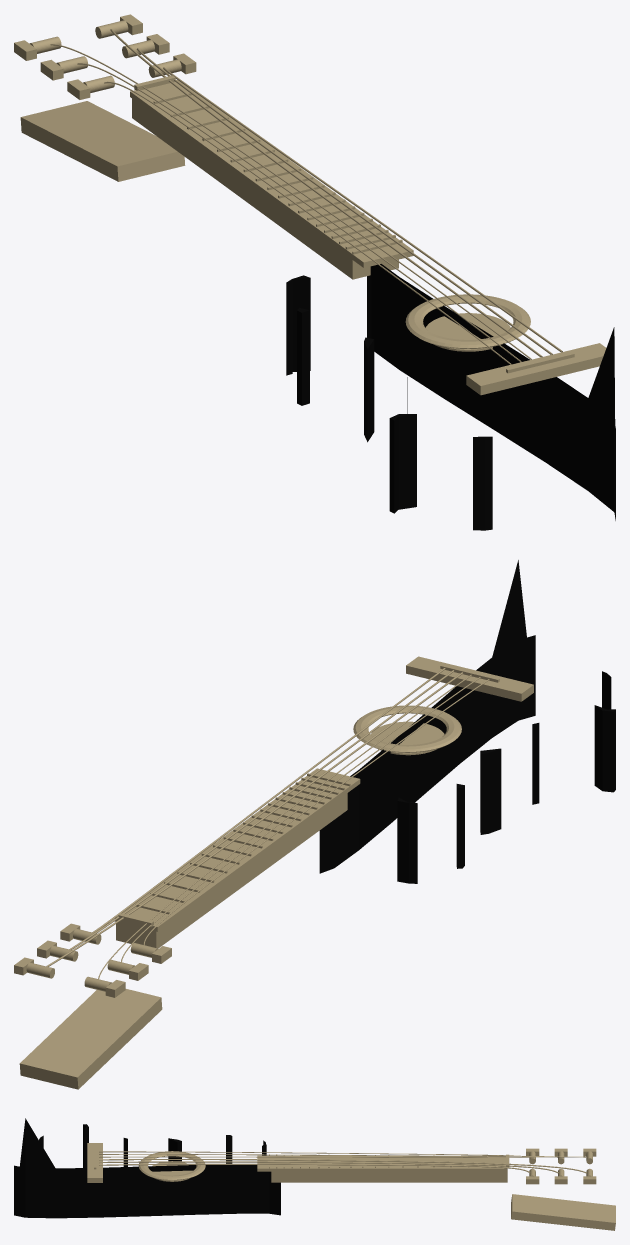
Rendered from guitar.glb.
3 views of the same model, one above another, from view 1: azimuth 30°, elevation 25°; view 2: azimuth 150°, elevation 25°; view 3: azimuth 270°, elevation 25° (orthographic). The views are drawn at different scales.
Visible parts, largest first — view 1: GuitarDark, GuitarWood; view 2: GuitarDark, GuitarWood; view 3: GuitarDark, GuitarWood.
Boxes of the visible parts, x1,y1,x2,y2 form: GuitarDark: [14, 14, 606, 395]; GuitarWood: [286, 264, 615, 530]; GuitarDark: [14, 656, 533, 1089]; GuitarWood: [319, 560, 615, 883]; GuitarDark: [87, 1143, 615, 1230]; GuitarWood: [14, 1118, 280, 1218].
Size of the model in its own units: 0.253 by 0.2137 by 1.09.
2 materials, 2 textured.
